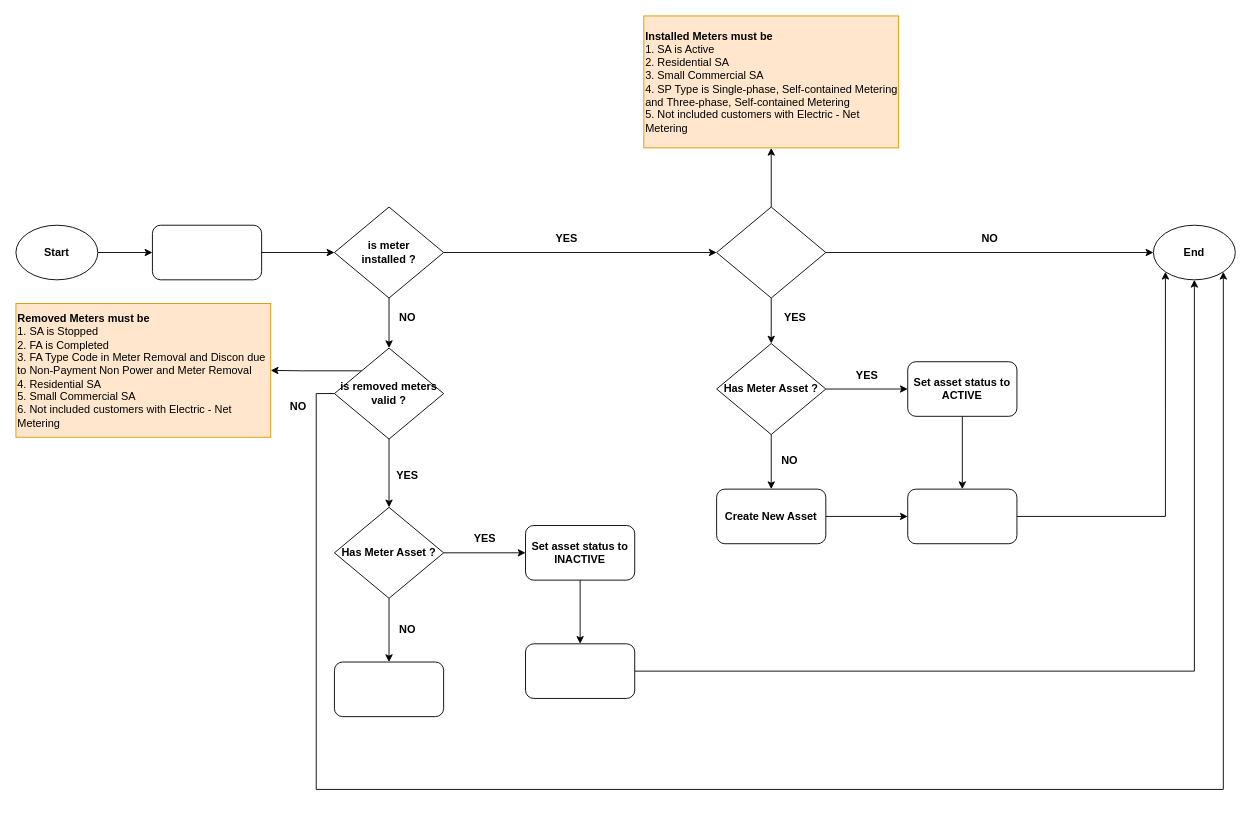
The diagram is 1251 pixels wide and 813 high, and some of its shapes have lost their labels. Here are the shapes that lost their labels. From the top down, the box of each, then its label:
(152, 224, 262, 280): Get install/remove meters in CCB
(716, 206, 826, 298): is installed meters valid ?
(907, 488, 1017, 544): Set component status to INSTALLED
(334, 661, 444, 717): to follow
(525, 643, 635, 698): Set component status to IN STORES
